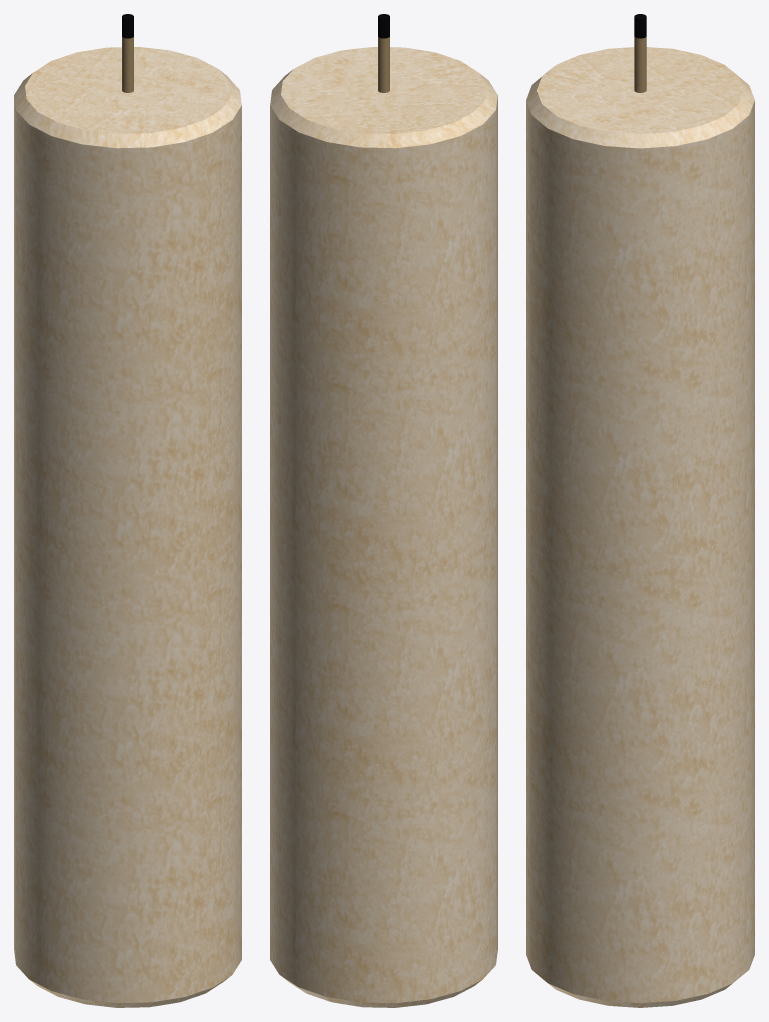
The model's file is Chapel_Candle.fbx.
3 renders of one model, left to right at view 1: azimuth 30°, elevation 25°; view 2: azimuth 150°, elevation 25°; view 3: azimuth 270°, elevation 25°, orthographic.
Visible parts, largest first — view 1: Candle; view 2: Candle; view 3: Candle.
Part boxes in pixels (x1,y1,x2,y2): Candle: [14, 14, 241, 1007]; Candle: [270, 14, 497, 1007]; Candle: [526, 14, 754, 1007].
Bounding box in the file's own units: 0.2602 × 1.19 × 0.2602.
Materials: 1 (1 with a texture image).
